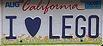placa de veiculo: (4, 1, 101, 43)
